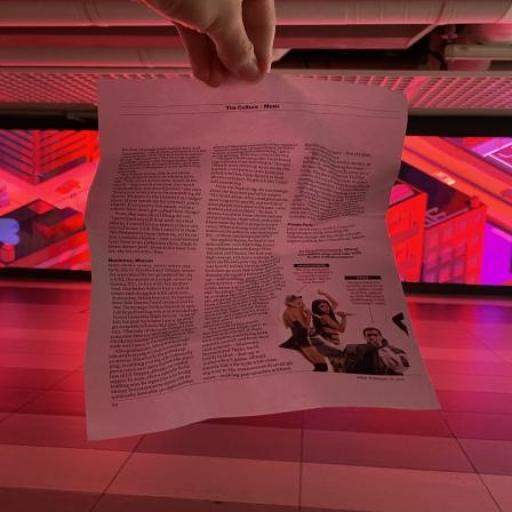paper: (31, 39, 442, 460)
